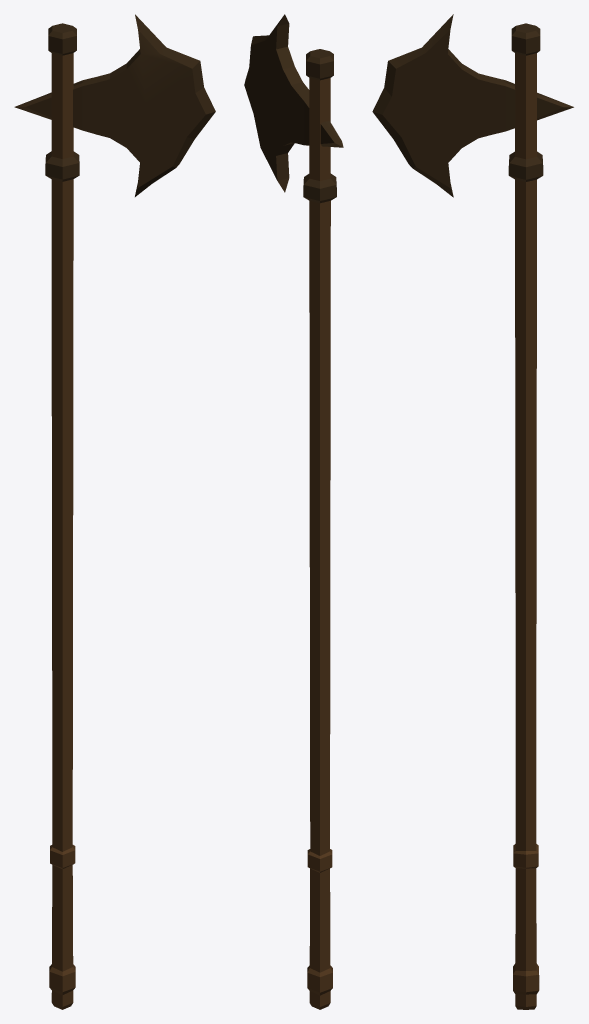
The model's file is spear.fbx.
The picture shows the model from 3 angles, left to right: view 1: azimuth 90°, elevation 25°; view 2: azimuth 210°, elevation 25°; view 3: azimuth 270°, elevation 25°; orthographic projection. The views are drawn at different scales.
Parts seen in each view (by area): view 1: spear; view 2: spear; view 3: spear.
Boxes of the visible parts, bbox=[...] form: spear: bbox=[14, 14, 215, 1009]; spear: bbox=[244, 14, 343, 1009]; spear: bbox=[372, 14, 573, 1009].
Bounding box in the file's own units: 5.18 × 142 × 26.28.
